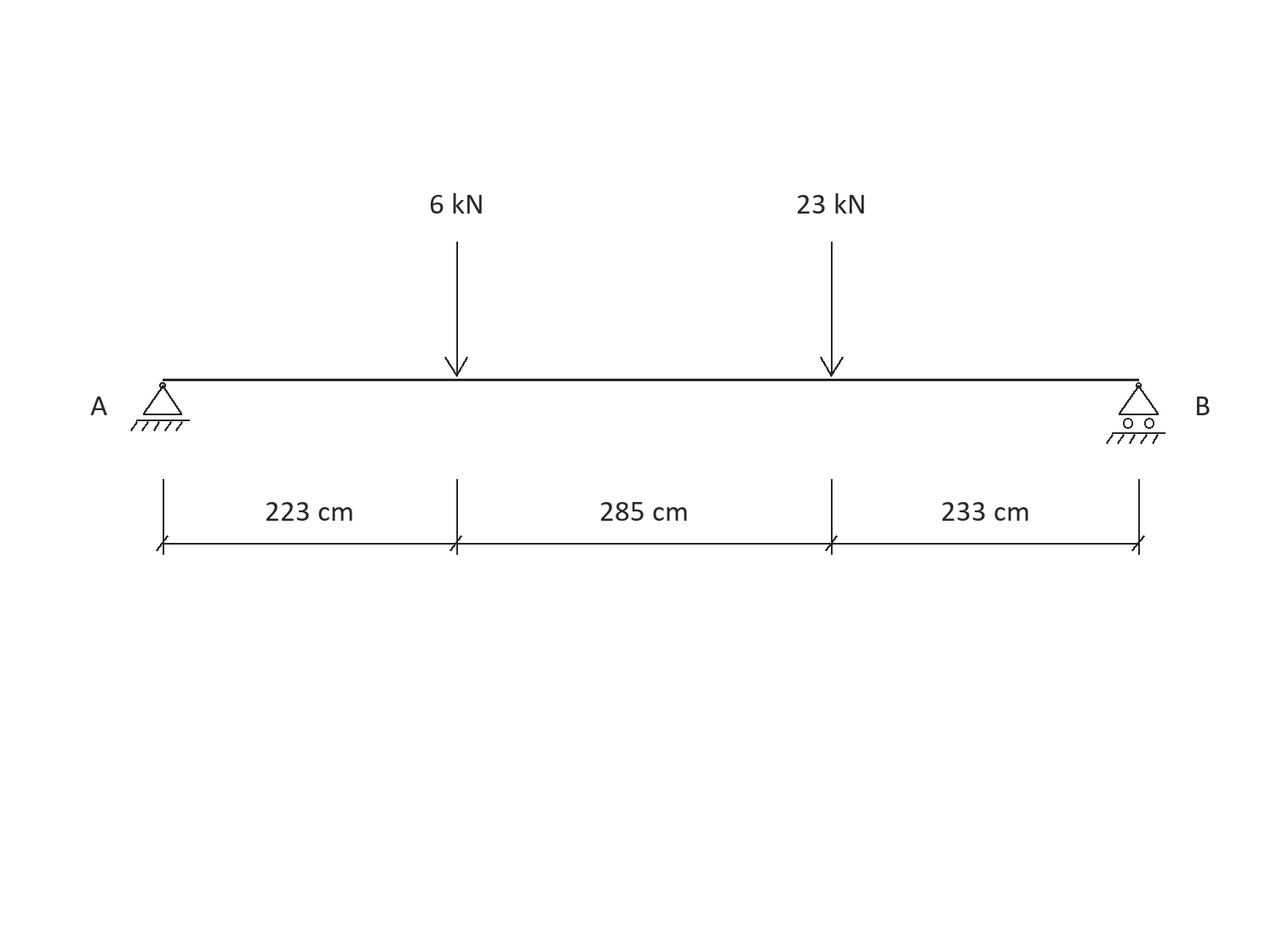pin_support: (130, 382, 190, 431)
point_load: (444, 242, 468, 377), (820, 242, 844, 377)
roller_support: (1106, 382, 1165, 444)
